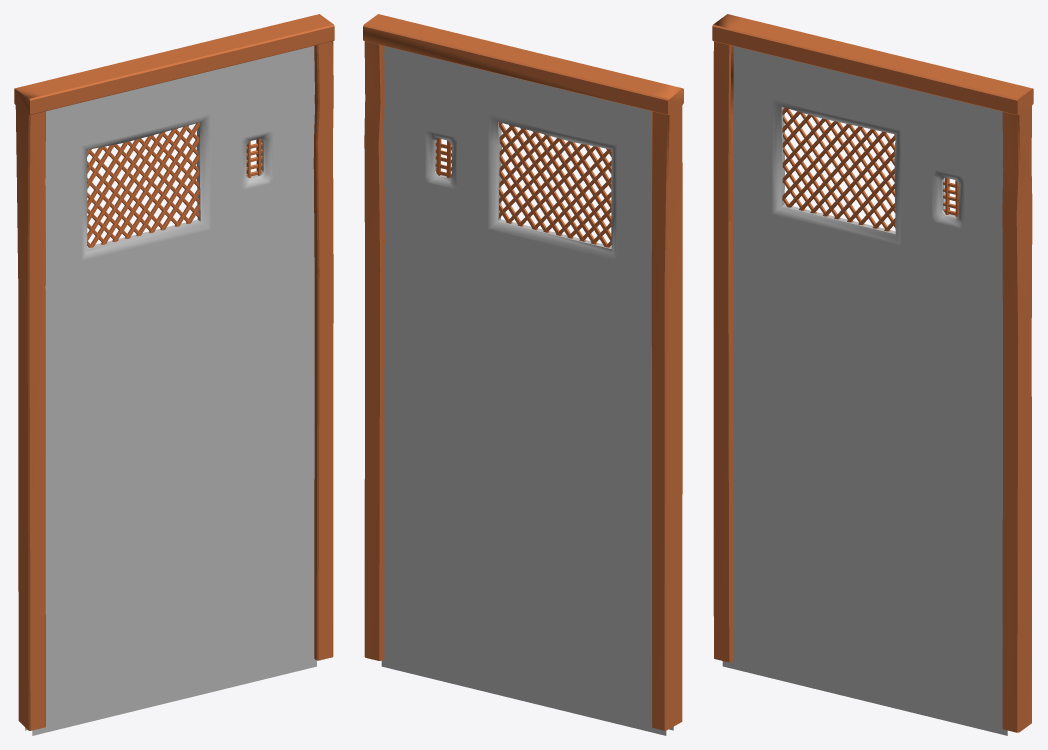
File: Door.fbx
3 renders of one model, left to right at view 1: azimuth 30°, elevation 25°; view 2: azimuth 150°, elevation 25°; view 3: azimuth 330°, elevation 25°, orthographic.
Visible parts, largest first — view 1: Box007; view 2: Box007; view 3: Box007.
Part boxes in pixels (<box>): Box007: <box>14,14,334,735</box>; Box007: <box>363,14,683,735</box>; Box007: <box>712,14,1033,735</box>.
Bounding box in the file's own units: 132 × 11.86 × 263.
